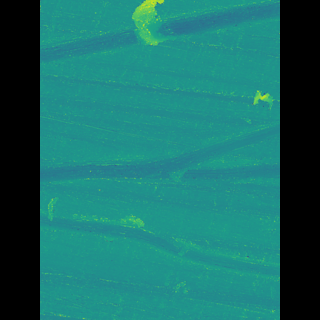Loch: (68, 118, 251, 197), (70, 207, 250, 280), (69, 0, 252, 67), (138, 0, 170, 51), (227, 84, 248, 117)
